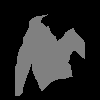giaccone: (14, 14, 85, 96)
